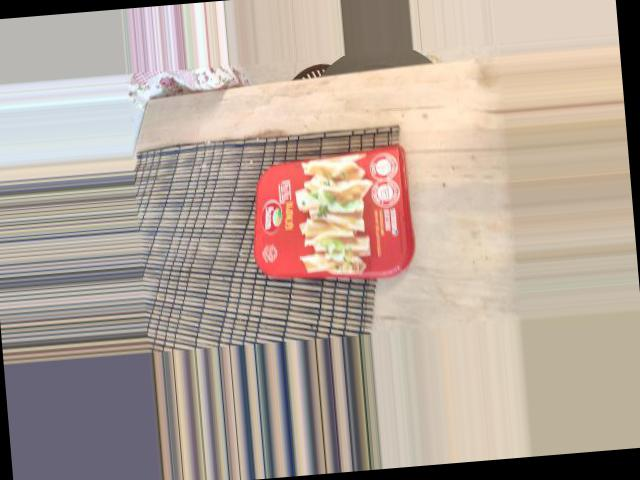cheese: (248, 153, 422, 275)
